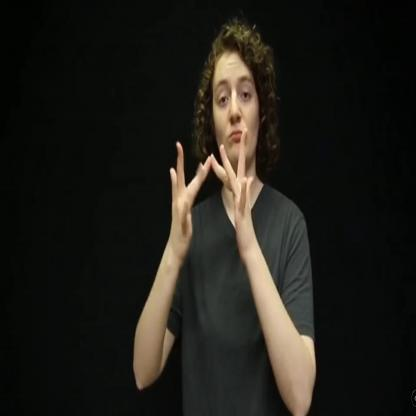Internet: (162, 129, 263, 277)
